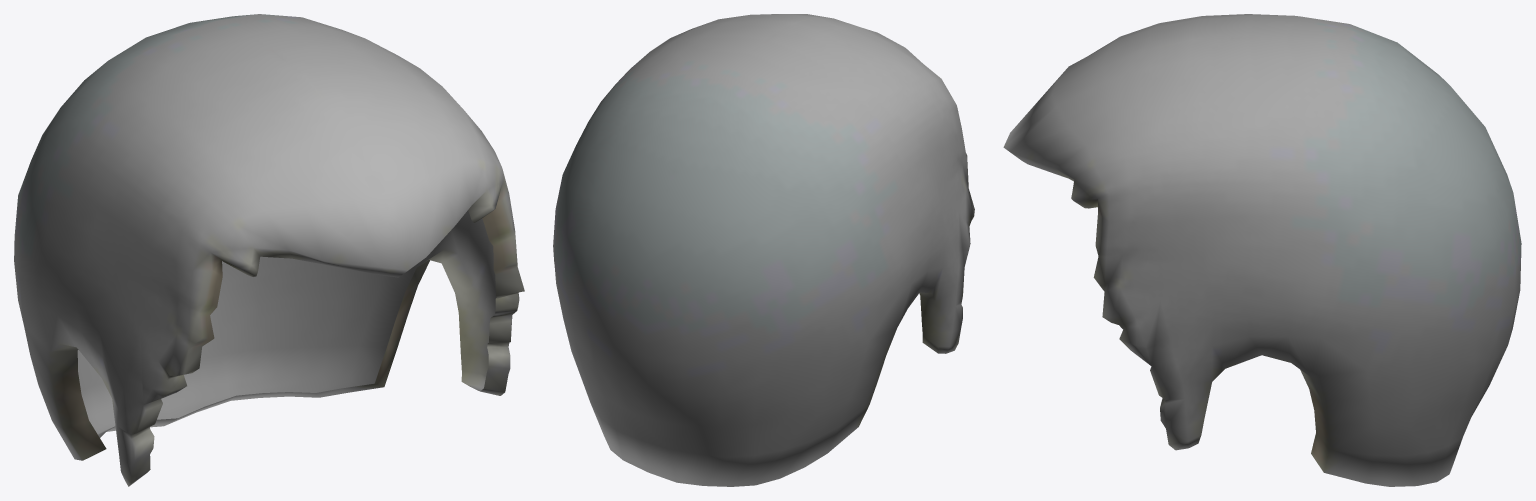
File: hair.buzzed.hair-1.gltf
3 views of the same model, side by side, from view 1: azimuth 30°, elevation 25°; view 2: azimuth 150°, elevation 25°; view 3: azimuth 270°, elevation 25° (orthographic). The views are drawn at different scales.
Parts seen in each view (by area): view 1: Hair_Buzzed; view 2: Hair_Buzzed; view 3: Hair_Buzzed.
Part boxes in pixels (x1,y1,x2,y2): Hair_Buzzed: (14, 14, 524, 486); Hair_Buzzed: (553, 14, 974, 486); Hair_Buzzed: (1003, 14, 1521, 486).
Size of the model in its own units: 0.1545 by 0.1694 by 0.1909.
1 material, 1 textured.
